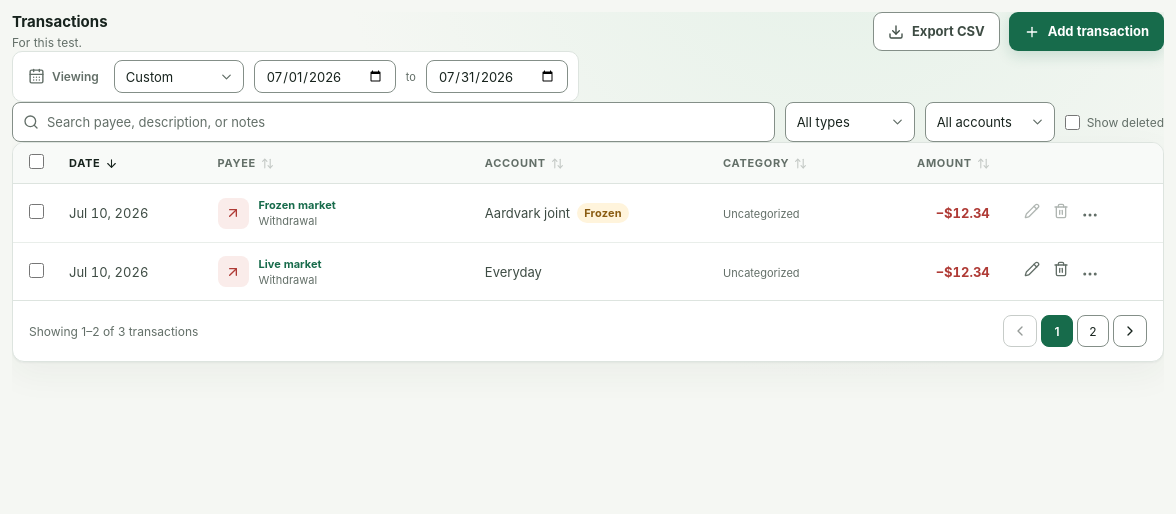
Scenario: entries on a frozen account, in the transaction list › remembers a frozen row shown before a reorder took it off the page
Check: the button named "Edit " is disabled, box x1=1018 y1=196 x2=1047 y2=225
Click the button "Payee" at (237, 163), box x1=204 y1=145 x2=471 y2=181
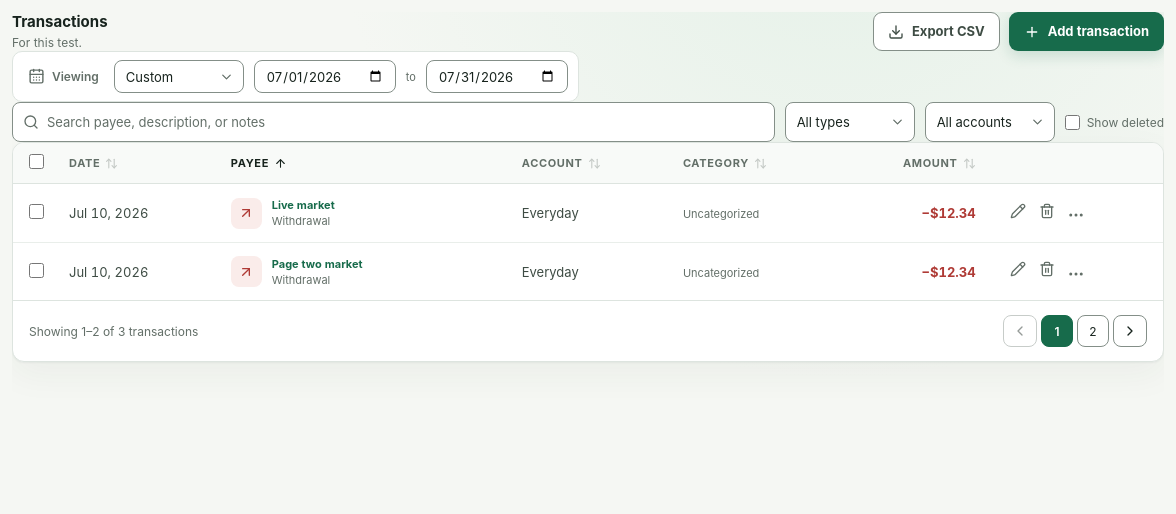
Click the checkbox named "Select transaction Live market, Jul 10, 2026, Everyday, 4444" at (36, 212), box x1=28 y1=204 x2=44 y2=219
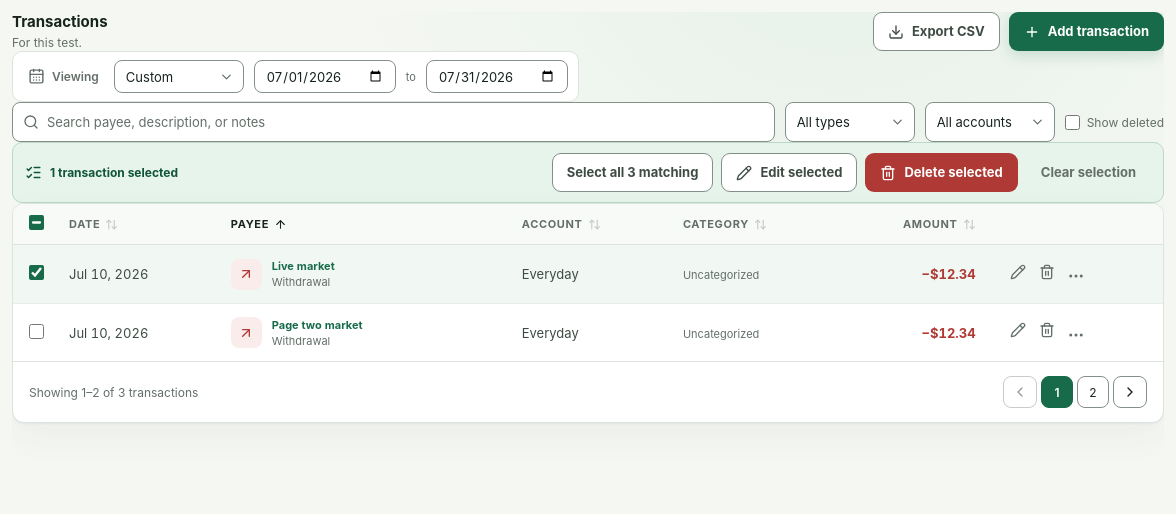
Check: the button "Delete selected" is enabled, box x1=865 y1=153 x2=1018 y2=192
Check: the button "Edit selected" is enabled, box x1=721 y1=153 x2=857 y2=192
Click the button "Select all 3 matching" at (632, 173), box x1=552 y1=153 x2=713 y2=192
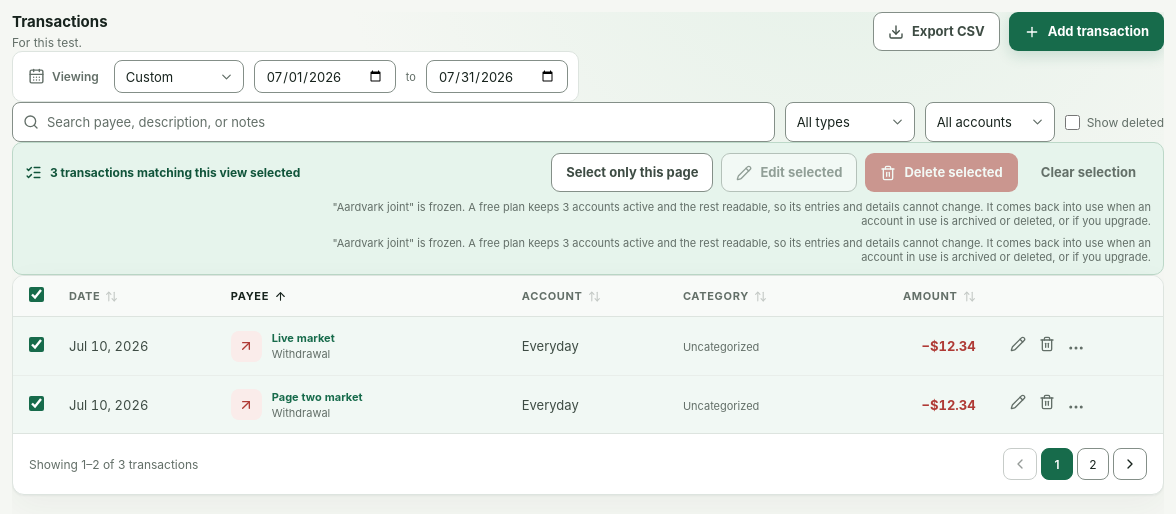
Check: the text "3 transactions matching this view selected" is shown, box x1=50 y1=165 x2=300 y2=180
Check: the button "Delete selected" is disabled, box x1=865 y1=153 x2=1018 y2=192
Check: the button "Edit selected" is disabled, box x1=721 y1=153 x2=857 y2=192
